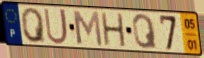7: (158, 14, 178, 52)
H: (100, 12, 128, 49)
M: (71, 9, 104, 48)
Q: (19, 7, 48, 45), (131, 13, 159, 51)
U: (43, 7, 70, 46)
